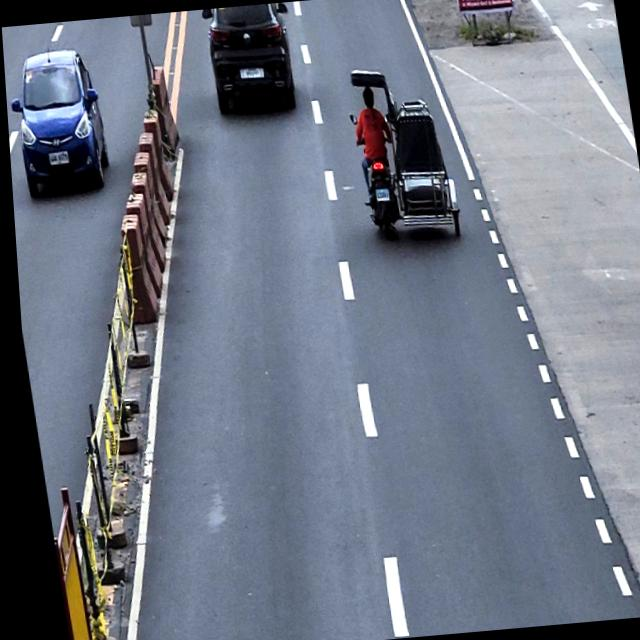Car: (2, 44, 111, 198), (201, 2, 301, 116)
License-Plate: (236, 66, 264, 81), (45, 150, 68, 166), (371, 188, 388, 202)
Tricycle: (339, 61, 461, 244)
